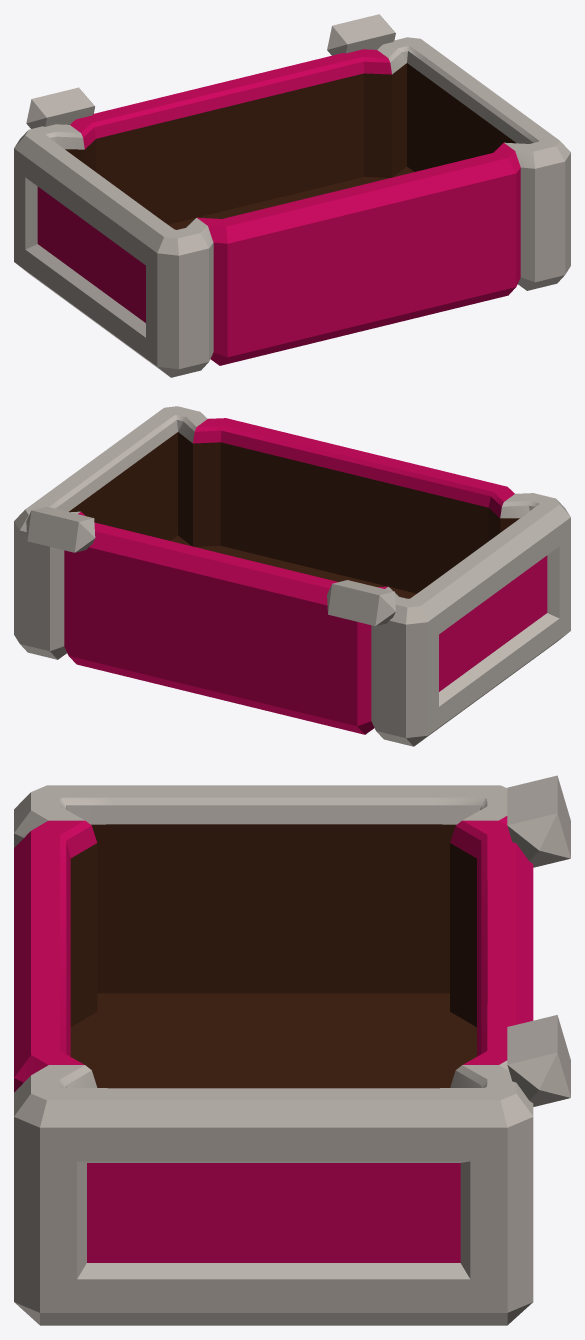
The model's file is m_dec_dung_chestLargeB_body.fbx.
3 renders of one model, top to bottom at view 1: azimuth 30°, elevation 25°; view 2: azimuth 150°, elevation 25°; view 3: azimuth 270°, elevation 25°, orthographic. The views are drawn at different scales.
Parts seen in each view (by area): view 1: m_dec_dung_chestLargeB_body; view 2: m_dec_dung_chestLargeB_body; view 3: m_dec_dung_chestLargeB_body.
Part boxes in pixels (x1,y1,x2,y2): m_dec_dung_chestLargeB_body: [14, 14, 570, 377]; m_dec_dung_chestLargeB_body: [14, 406, 570, 746]; m_dec_dung_chestLargeB_body: [14, 775, 570, 1325].
Size of the model in its own units: 3 by 1.1 by 2.14.
